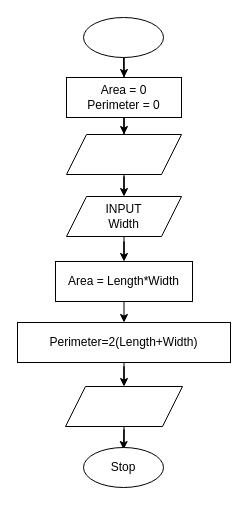
The diagram is 248 pixels wide and 505 high, and some of its shapes have lost their labels. Here are the shapes that lost their labels. From the top down, the centre of each, then its label:
At (123,37): "Start".
At (124,154): "INPUT Length".
At (123,406): "PRINT Area, Perimeter".
